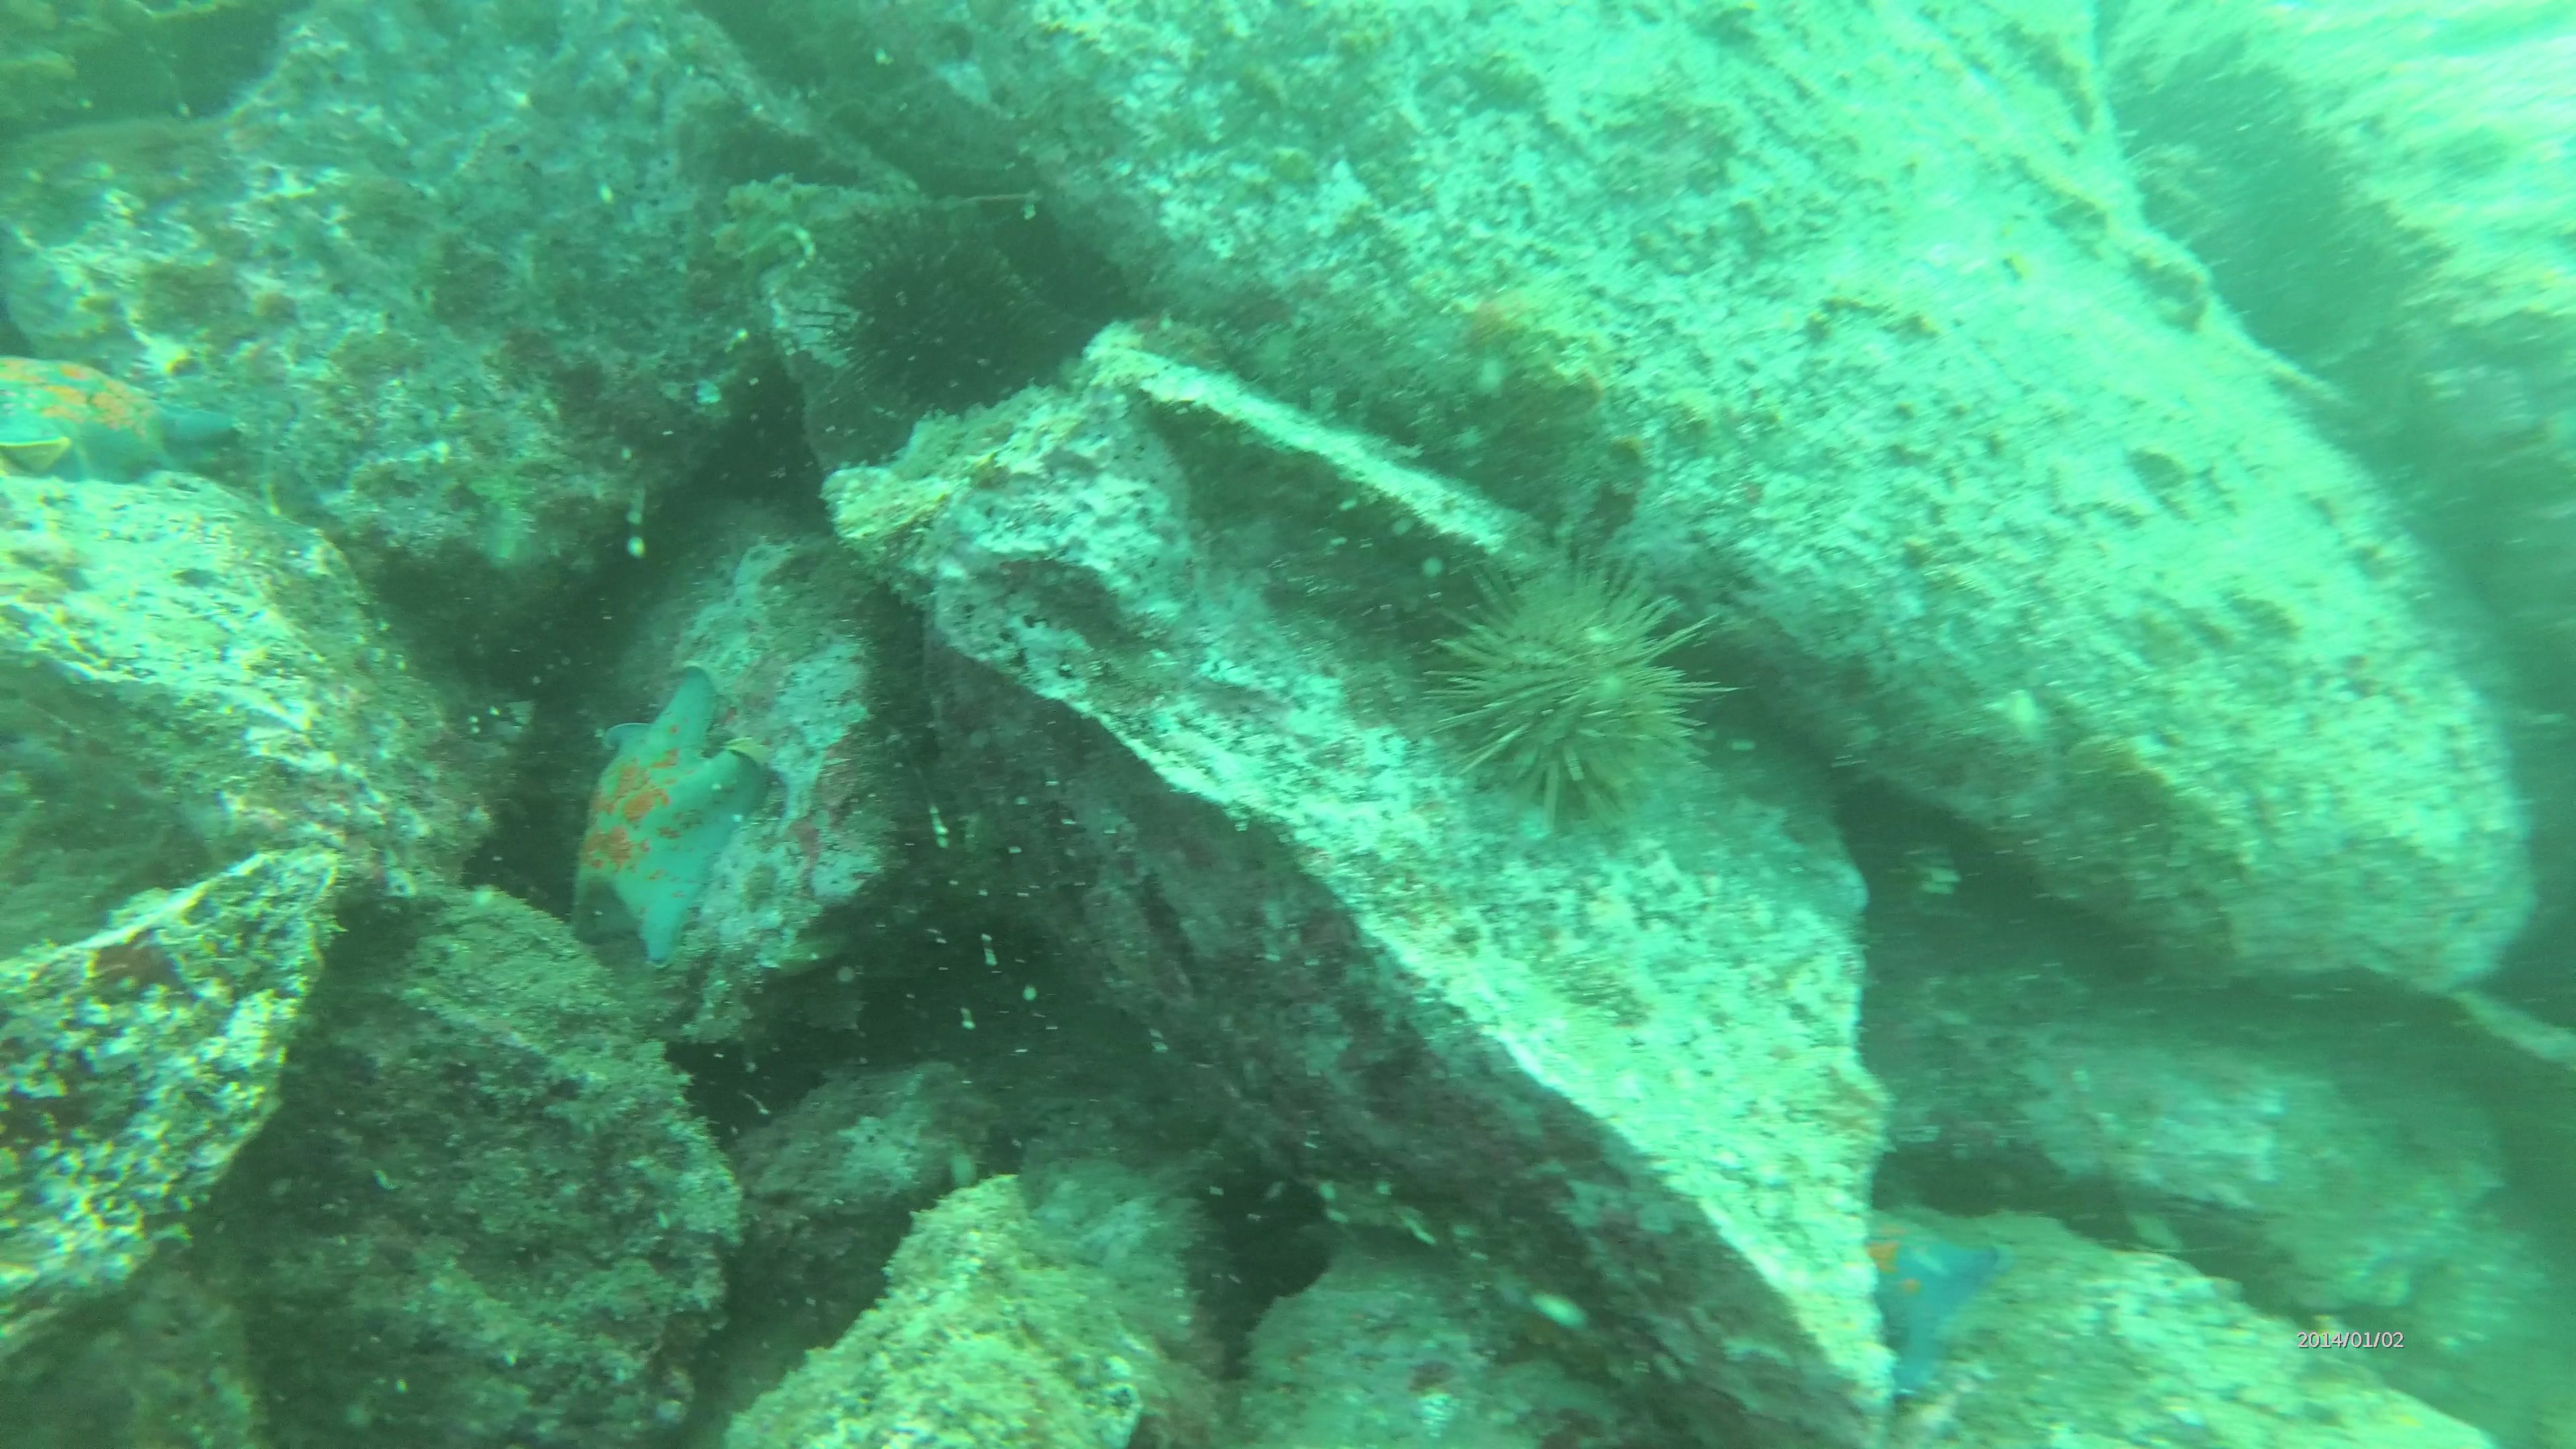echinus: (1426, 540, 1737, 855), (801, 239, 1069, 458)
starfish: (575, 678, 805, 982), (0, 352, 249, 481), (1859, 1200, 2003, 1419)
